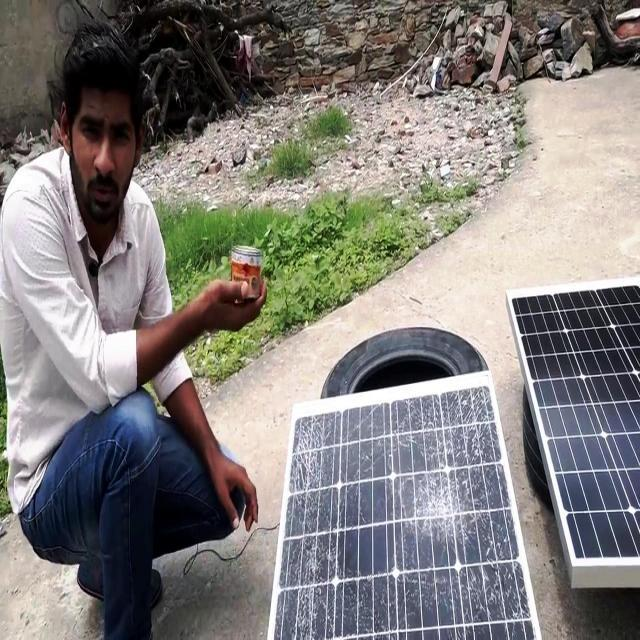faulty: (278, 382, 538, 640)
no faulty: (501, 281, 640, 560)
